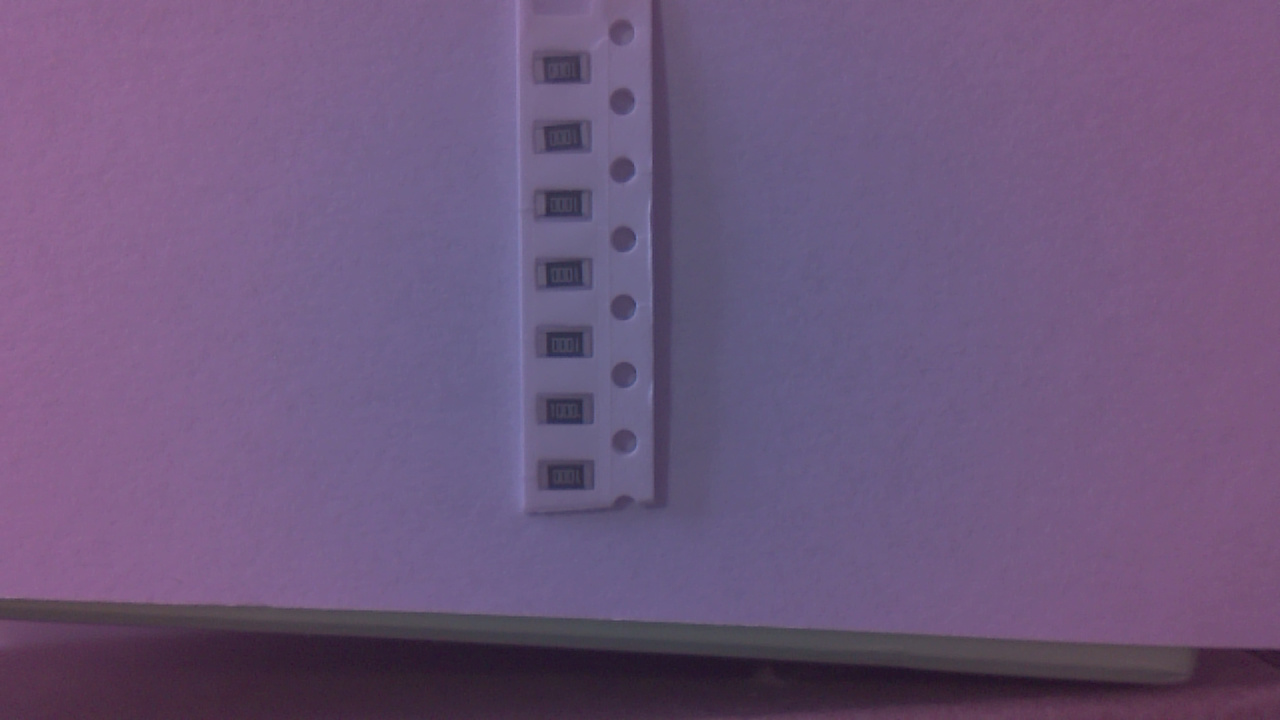Resistor: (541, 399, 605, 434), (537, 122, 598, 158), (539, 463, 600, 498), (541, 329, 601, 364), (536, 195, 599, 228), (536, 57, 598, 90), (540, 262, 598, 296)
